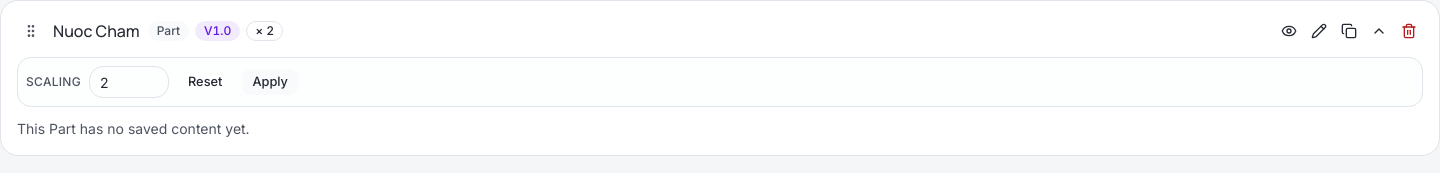
PartLinkFields Scaling › Reset restores the value the editing session opened with, not a fresh Apply
The image size is (1440, 173).
Expected: the icon "× 2" is shown, top-left (246, 21), bottom-right (283, 41)
Replace the text in the field named "Scaling multiplier" with "5" at (129, 82), box top-left (89, 66), bottom-right (169, 98)
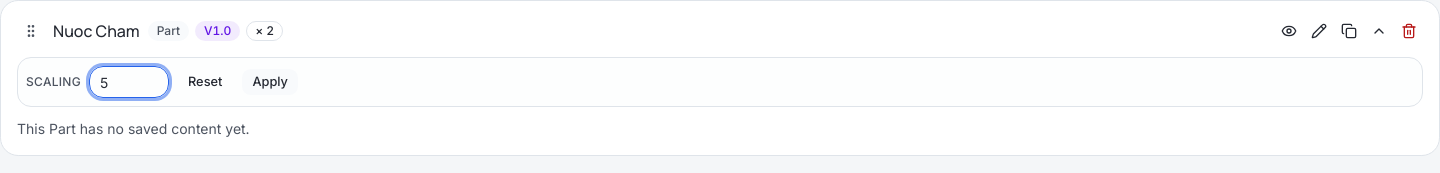
Click the button "Apply" at (270, 82), box top-left (241, 68), bottom-right (299, 96)
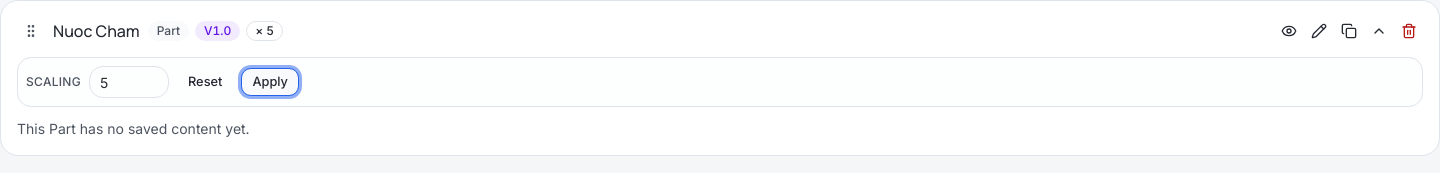
Result: the icon "× 5" is shown at top-left (246, 21), bottom-right (283, 41)
Replace the text in the field named "Scaling multiplier" with "9" at (129, 82), box top-left (89, 66), bottom-right (169, 98)
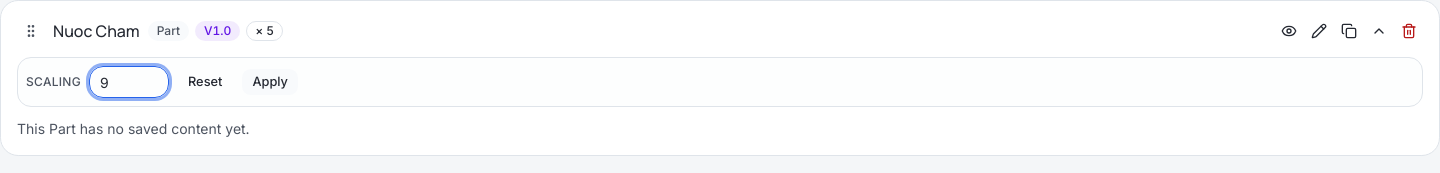
Click the button "Reset" at (205, 82), box top-left (177, 68), bottom-right (233, 96)
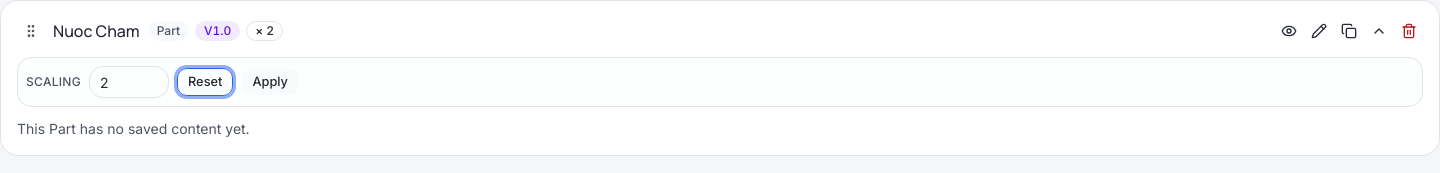
Result: the icon "× 2" is shown at top-left (246, 21), bottom-right (283, 41)
Result: the field named "Scaling multiplier" holds "2" at top-left (89, 66), bottom-right (169, 98)
